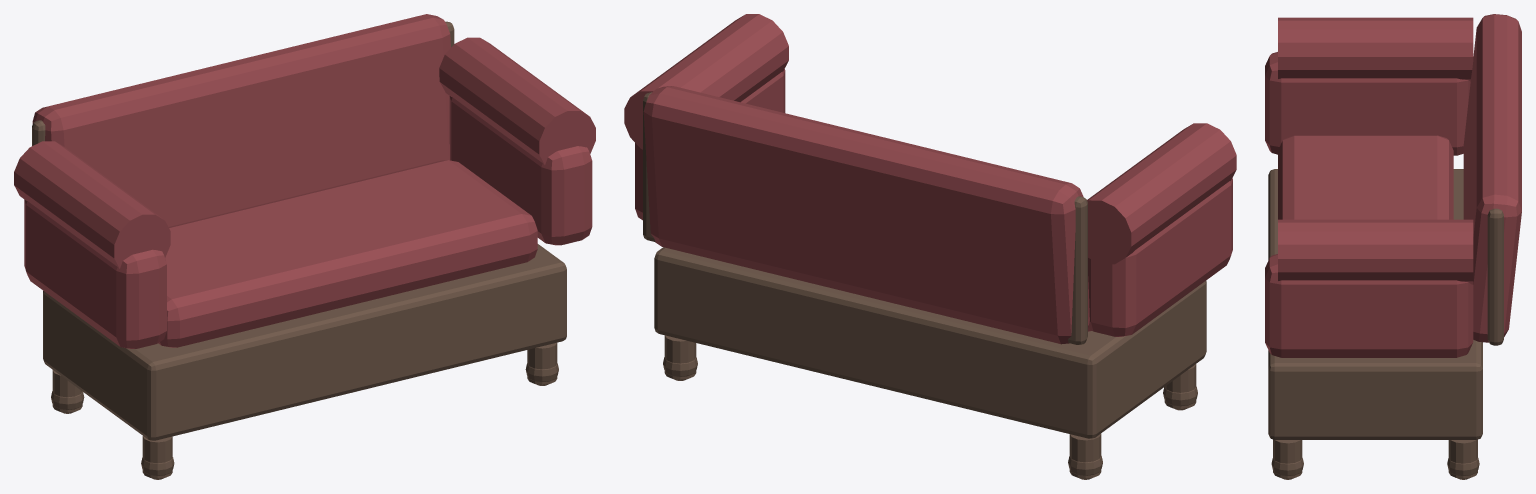
3 renders of one model, left to right at view 1: azimuth 30°, elevation 25°; view 2: azimuth 150°, elevation 25°; view 3: azimuth 270°, elevation 25°, orthographic. The views are drawn at different scales.
Visible parts, largest first — view 1: settee; view 2: settee; view 3: settee.
Part boxes in pixels (box(x1,y1,x2,y2)): settee: box(14, 14, 595, 479); settee: box(624, 14, 1236, 479); settee: box(1265, 14, 1521, 479).
Size of the model in its own units: 1.66 by 0.9582 by 0.79.
